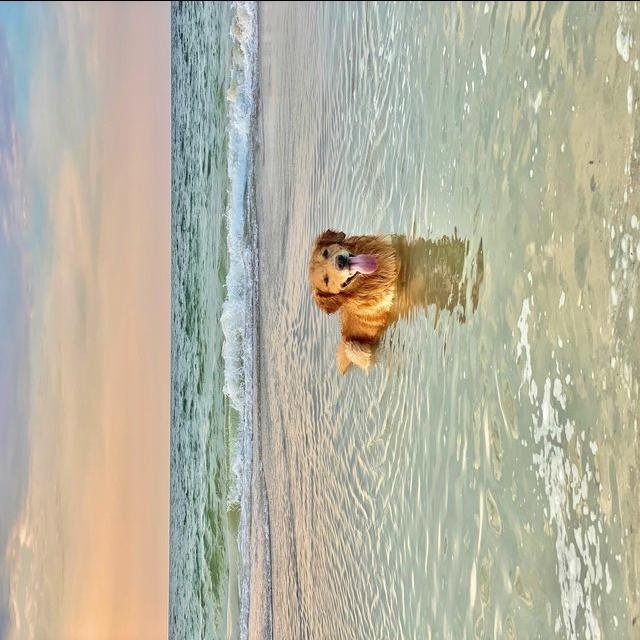retriever: (307, 227, 399, 373)
